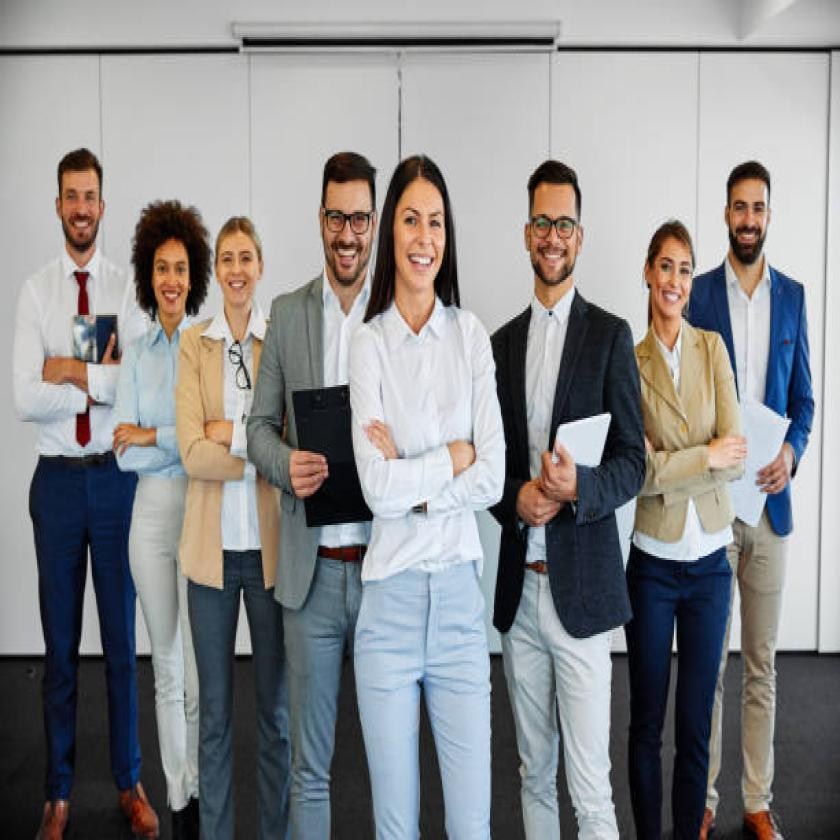Sin_casco: (381, 122, 464, 322), (299, 135, 385, 306), (129, 167, 213, 334), (513, 141, 592, 313), (39, 120, 114, 270), (634, 189, 701, 343), (210, 197, 279, 335), (720, 142, 778, 270)
